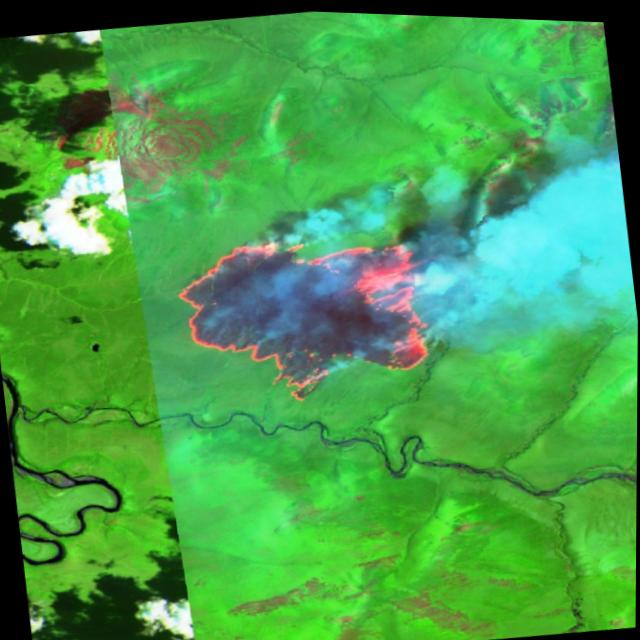fire: (160, 206, 452, 421)
